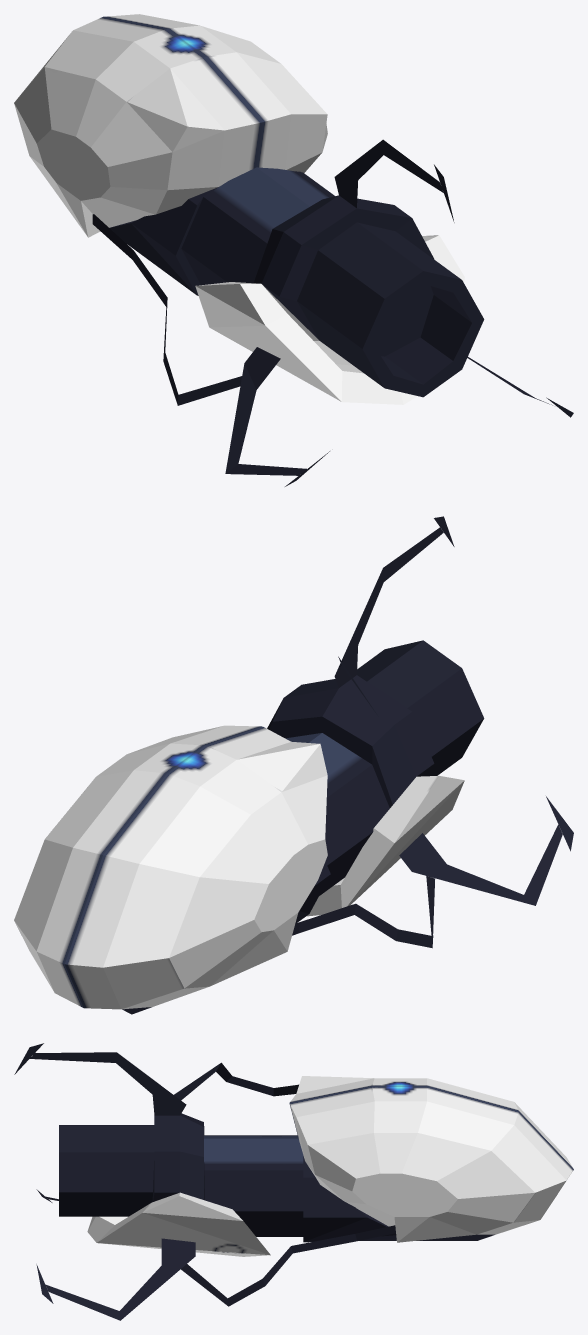
File: portalgun_lowpoly.obj
The picture shows the model from 3 angles, top to bottom: view 1: azimuth 30°, elevation 25°; view 2: azimuth 150°, elevation 25°; view 3: azimuth 270°, elevation 25°; orthographic projection. The views are drawn at different scales.
Parts seen in each view (by area): view 1: Plane; view 2: Plane; view 3: Plane.
Part boxes in pixels (bbox=[...]): Plane: bbox=[14, 14, 573, 486]; Plane: bbox=[14, 516, 573, 1014]; Plane: bbox=[14, 1043, 573, 1320].
Bounding box in the file's own units: 2.8 × 2.68 × 6.1.
1 material, 1 textured.
